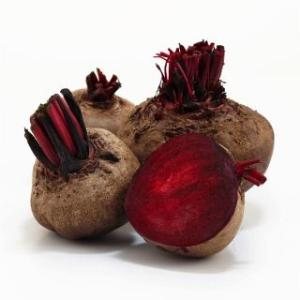beet: (129, 43, 275, 188), (128, 136, 250, 266), (35, 127, 133, 241), (54, 71, 142, 141)
